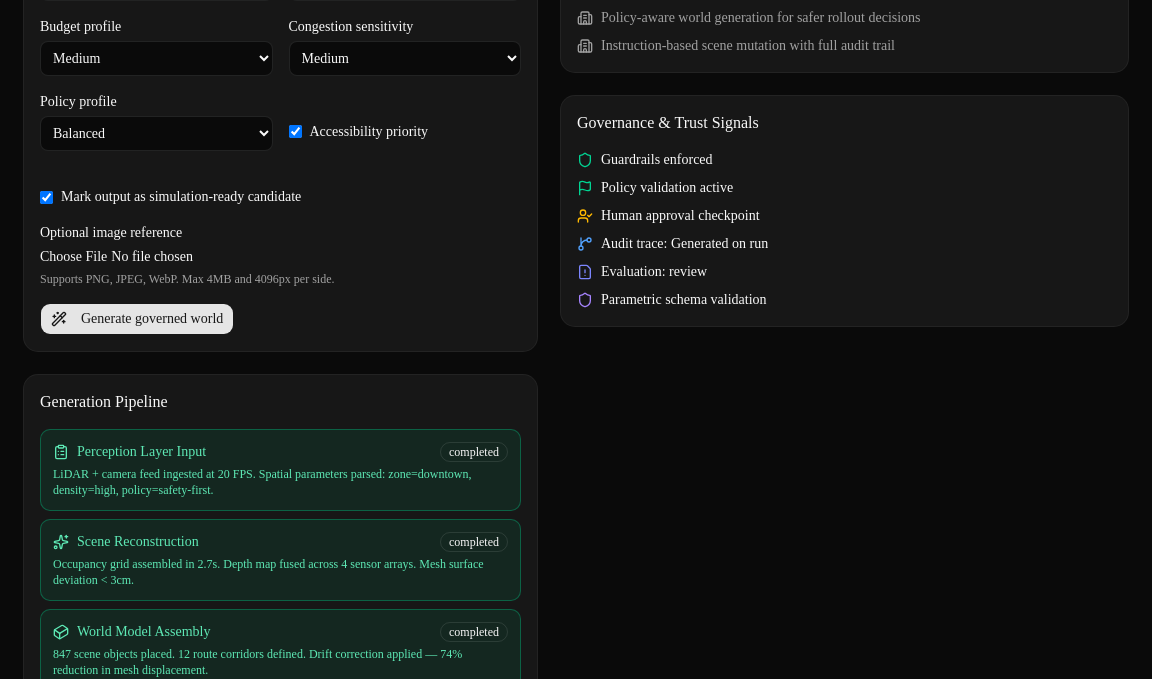
Test: WorldGenerationPage › does not enter approval when artifact readiness validation fails
(page scrolled)
Click the button "Generate governed world" at (137, 319), box [40,303,234,335]
(page scrolled)
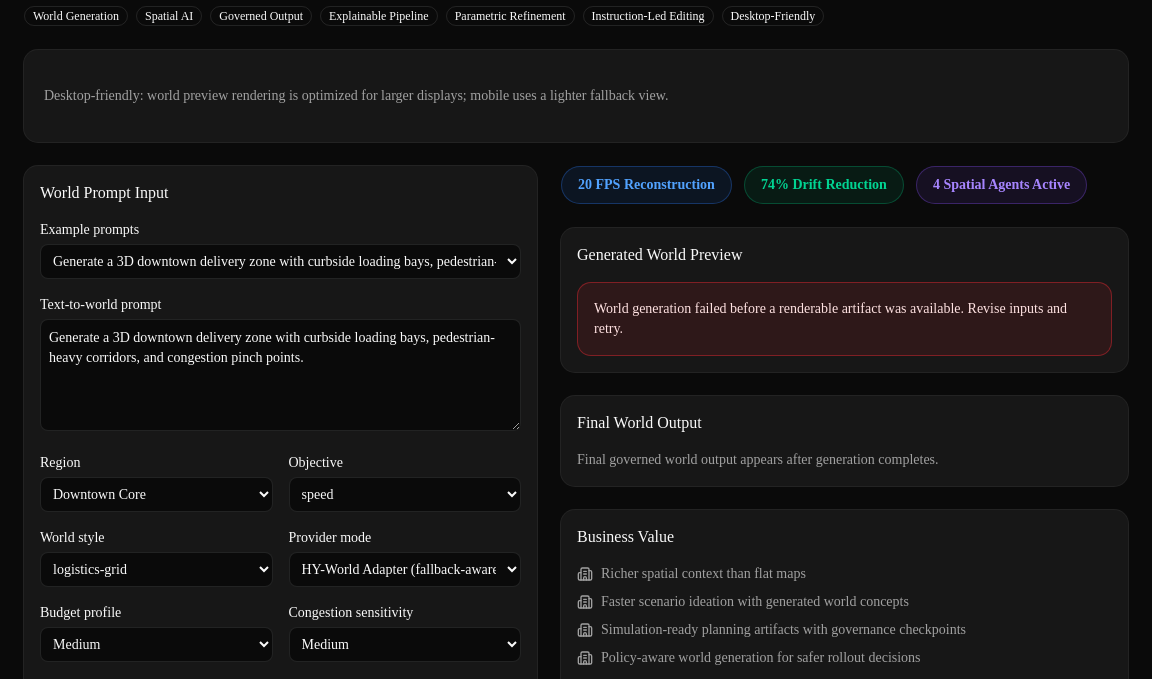
Result: the text "failed before a renderable artifact was available" is shown at [594,301,1067,336]
